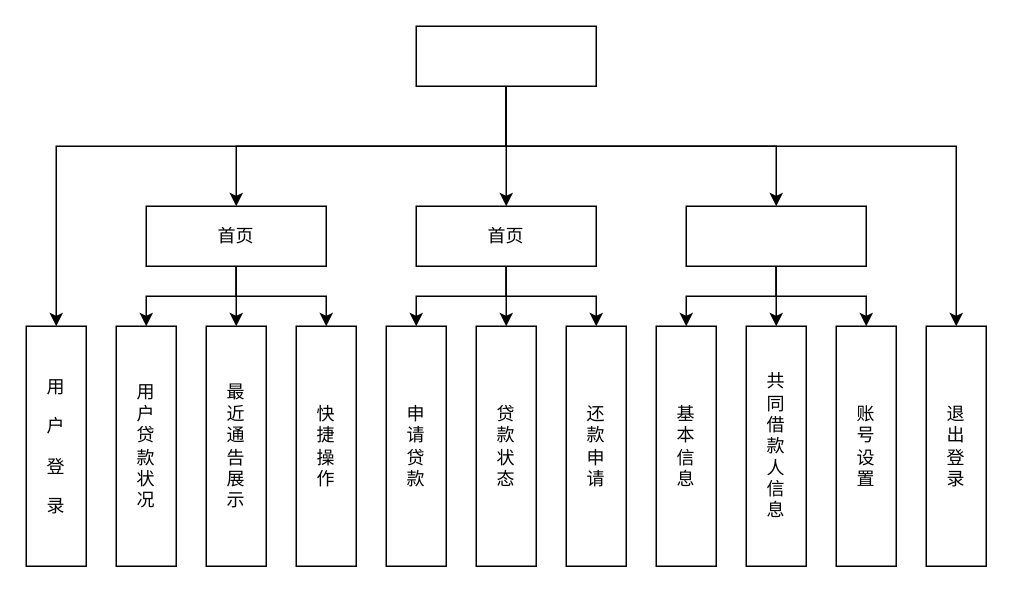
Some shapes in this 1013 by 593 pixel diagram are drawn without their labels. Each missing label, with the centre of its shape:
学生功能: (x=505, y=55)
我的信息: (x=775, y=235)
